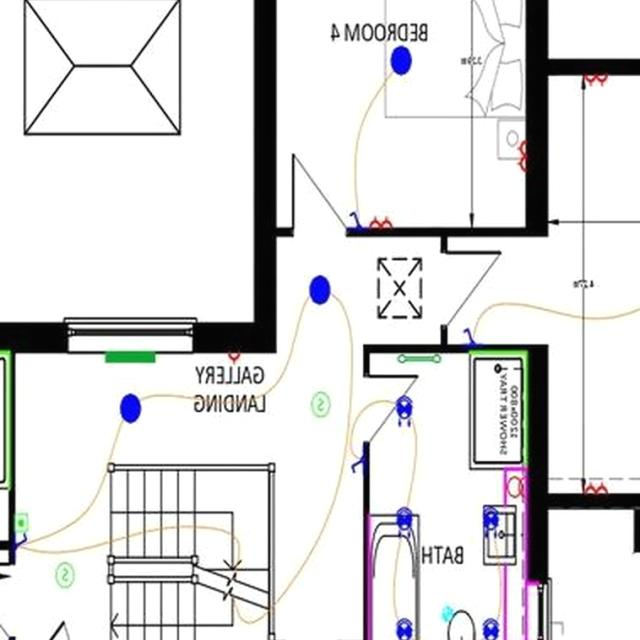Ceiling Mounted Continuous Extract FanWith Boost Mode Activated By Light Switch: (442, 606, 454, 620)
Double Socket: (517, 140, 527, 171), (585, 74, 610, 86), (586, 481, 610, 493), (370, 215, 393, 227)
Full Height Tiling: (470, 350, 530, 462), (0, 350, 12, 490)
Light Switch: (463, 326, 477, 344), (351, 454, 364, 473), (349, 211, 364, 226), (16, 533, 28, 549)
Low Energy Downlighter: (397, 394, 414, 426), (397, 507, 414, 537), (484, 507, 500, 537), (483, 617, 500, 640), (397, 617, 413, 640)
Low Energy Pendant Light: (310, 274, 331, 304), (120, 394, 142, 422), (392, 46, 412, 74)
Mains Wired Smoke Detector: (312, 391, 331, 416), (57, 562, 74, 586)
Programmable Room Thermostat: (16, 512, 30, 532)
Radiator: (106, 350, 157, 362)
Shaver Socket: (506, 476, 527, 502)
Single Socket: (229, 352, 241, 364)
